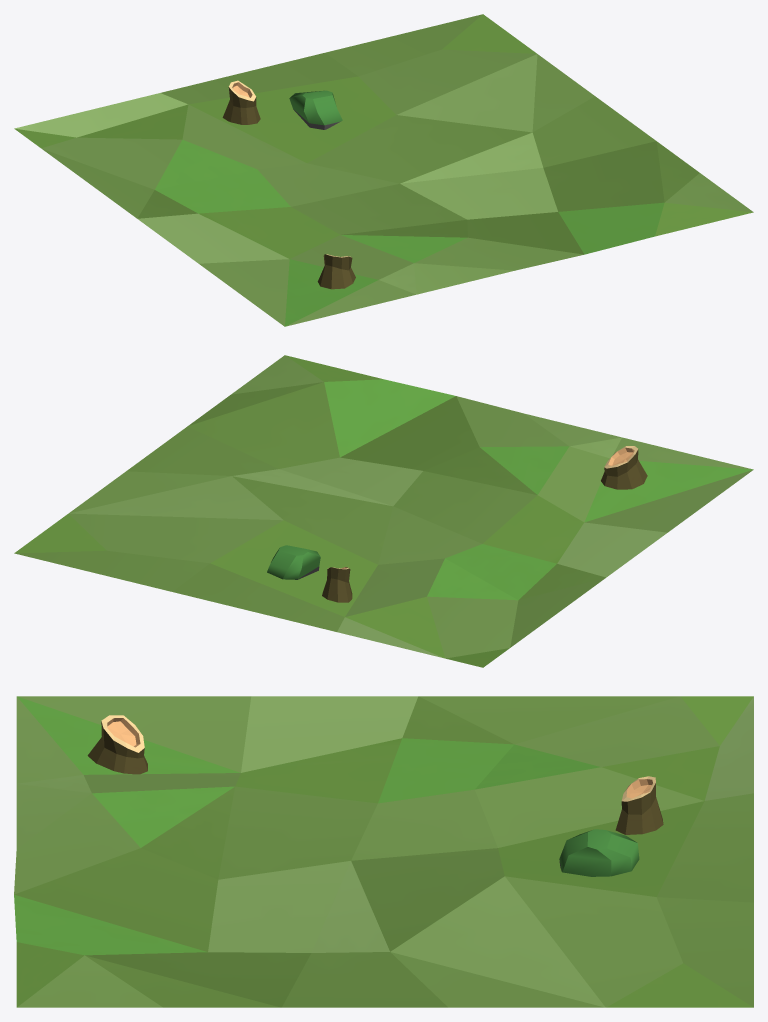
File: Tiles_03.fbx
3 views of the same model, one above another, from view 1: azimuth 30°, elevation 25°; view 2: azimuth 150°, elevation 25°; view 3: azimuth 270°, elevation 25° (orthographic). The views are drawn at different scales.
Parts seen in each view (by area): view 1: Tiles_03, polySurface13, Tree, Tree_03; view 2: Tiles_03, Tree_03, polySurface13, Tree; view 3: Tiles_03, polySurface13, Tree_03, Tree.
Part boxes in pixels (left/top/right/bottom): Tiles_03: left=14, top=14, right=753, bottom=326; polySurface13: left=289, top=90, right=342, bottom=129; Tree: left=222, top=80, right=260, bottom=124; Tree_03: left=317, top=254, right=355, bottom=289; Tiles_03: left=14, top=355, right=753, bottom=667; Tree_03: left=601, top=446, right=647, bottom=489; polySurface13: left=267, top=545, right=320, bottom=579; Tree: left=322, top=567, right=352, bottom=602; Tiles_03: left=14, top=696, right=753, bottom=1007; polySurface13: left=559, top=829, right=639, bottom=876; Tree_03: left=87, top=715, right=147, bottom=774; Tree: left=615, top=776, right=663, bottom=834.
Bounding box in the file's own units: 722 × 71.86 × 725.
